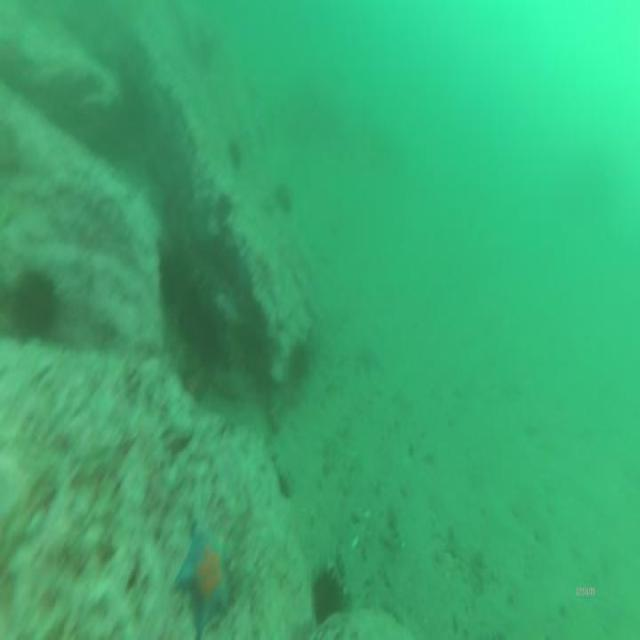echinus: (5, 264, 62, 346), (175, 282, 221, 374), (308, 561, 349, 627), (285, 335, 313, 389), (156, 250, 180, 310), (210, 186, 233, 232), (270, 178, 294, 220), (225, 136, 243, 172)
starfish: (176, 516, 234, 640)
